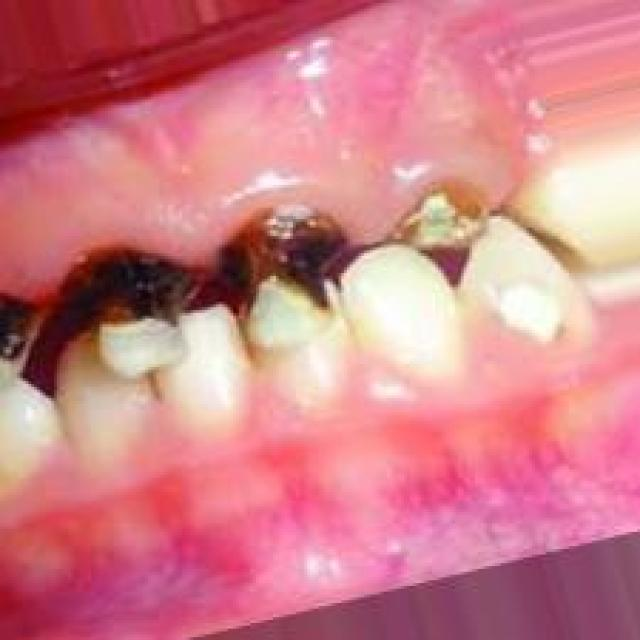caries: (64, 233, 195, 372), (210, 203, 339, 340), (389, 178, 493, 256)
